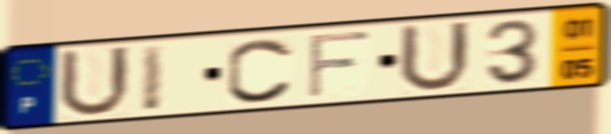3: (482, 16, 543, 86)
C: (223, 35, 296, 105)
F: (305, 28, 374, 102)
I: (138, 41, 168, 115)
U: (395, 19, 475, 96), (55, 44, 135, 121)
